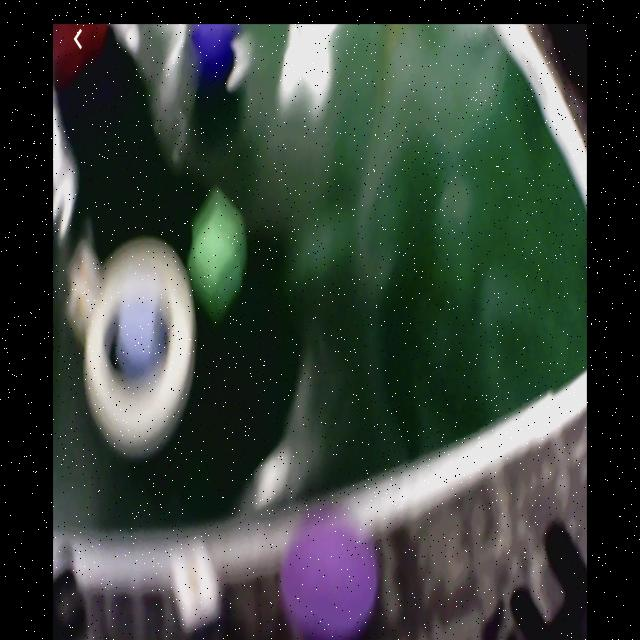ball: (286, 513, 378, 640), (191, 27, 240, 65)
